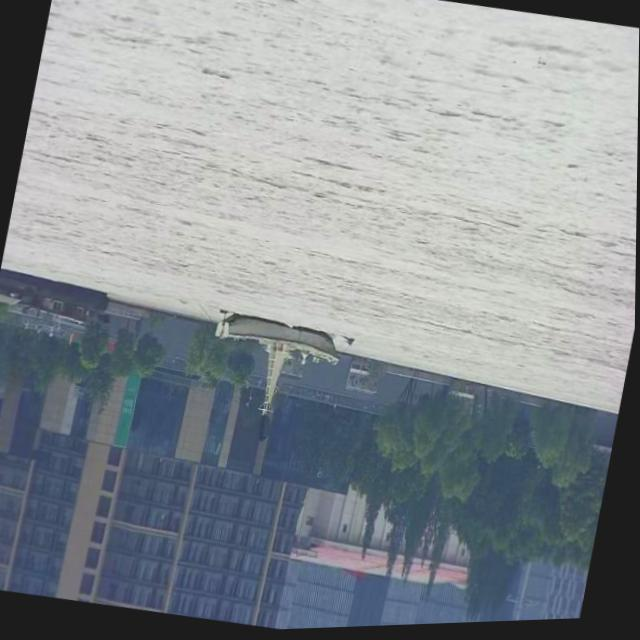ship2: (222, 313, 339, 477)
